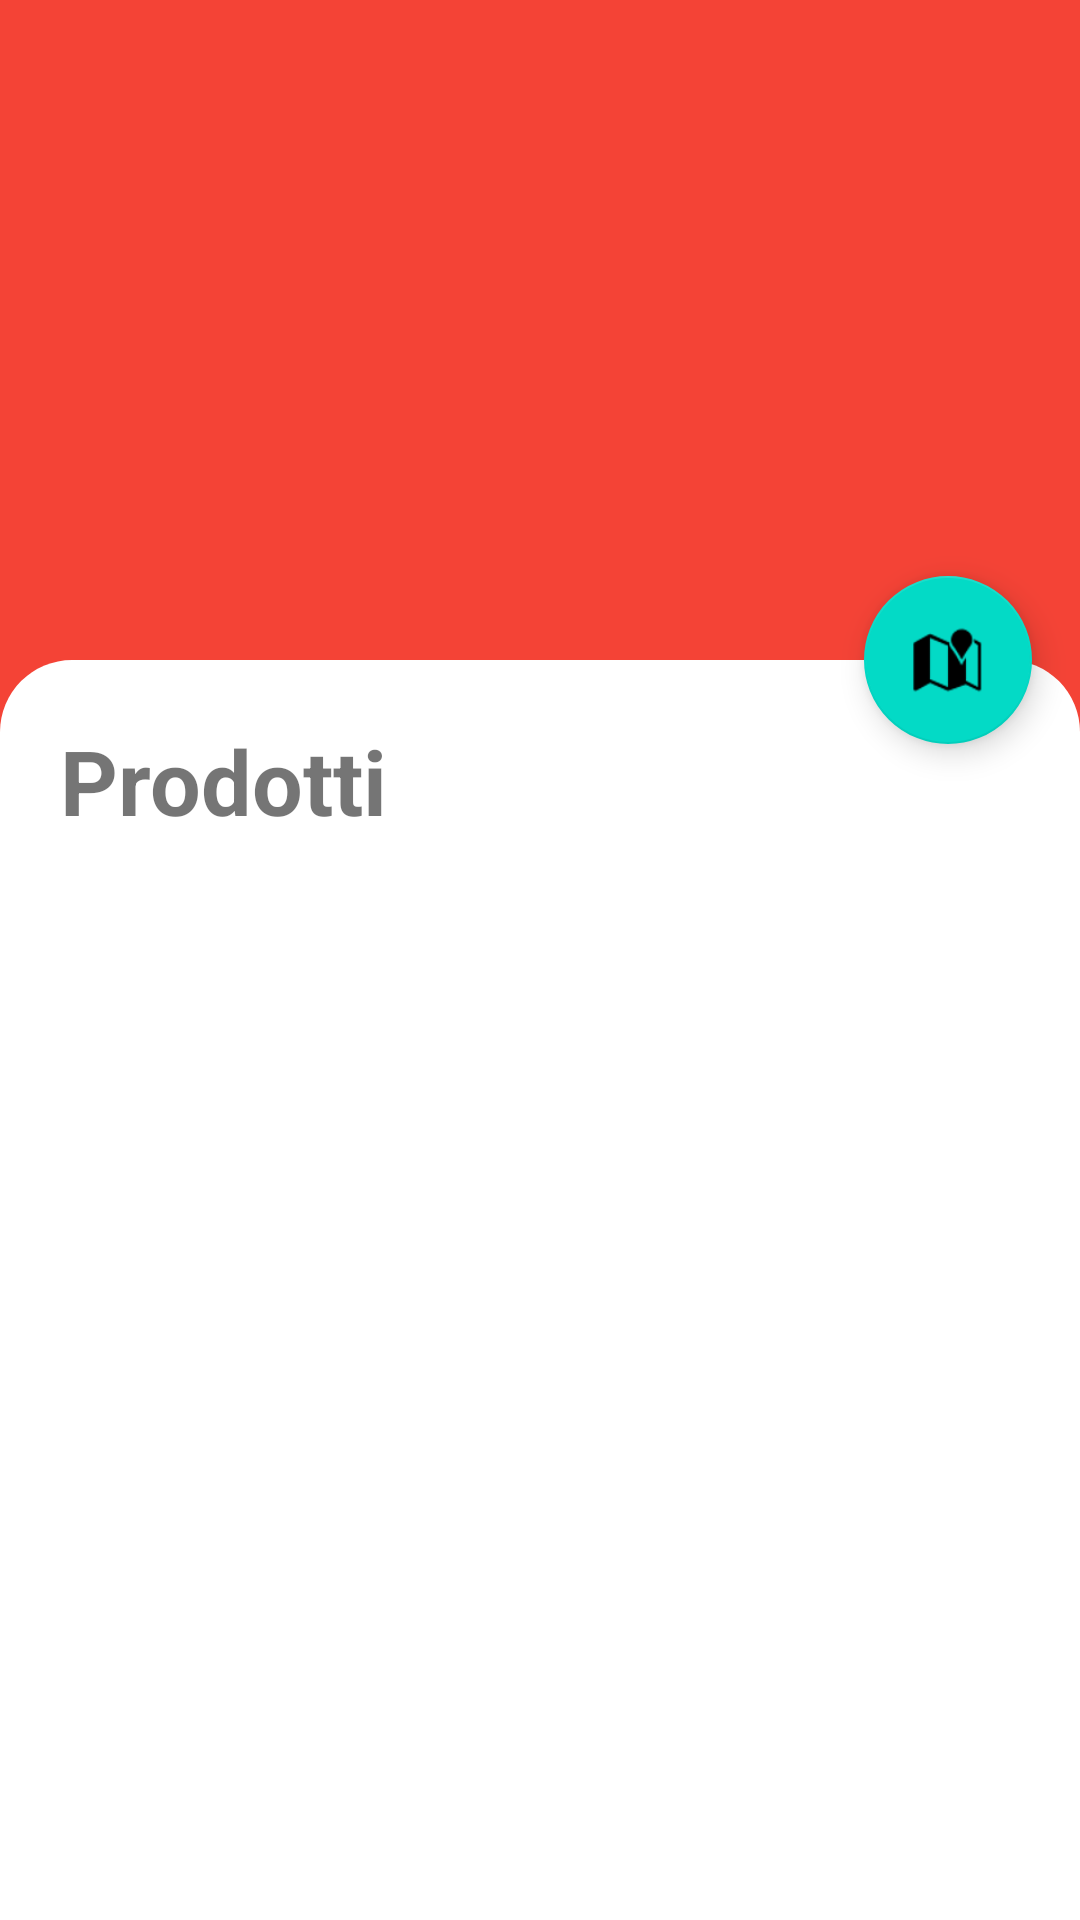

Screen size 1080 × 1920. Icon name, then its center in pixels as [x,y]:
map: [948,660]
